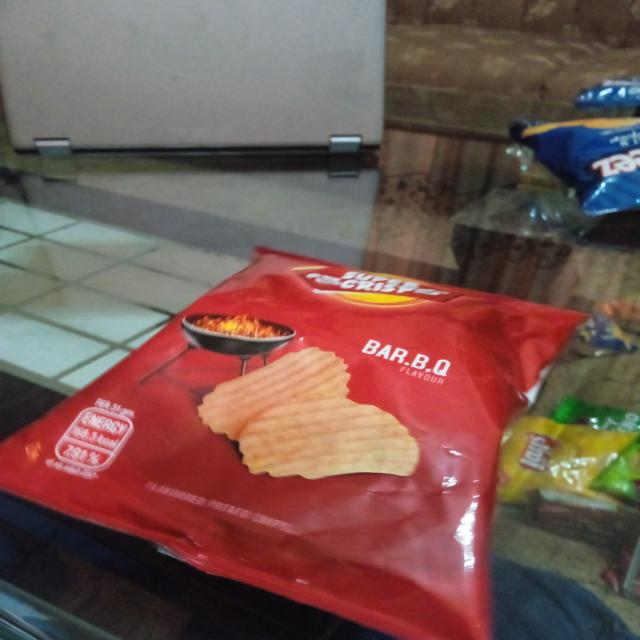Plastic: (0, 238, 597, 640)
